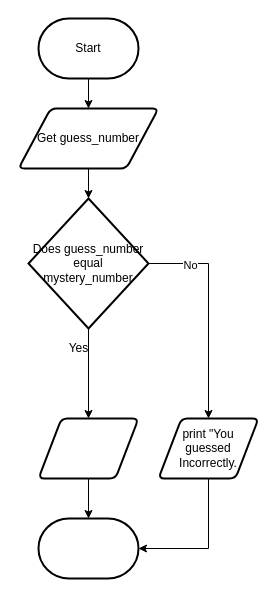
This 276x596 diagram has some shape labels left out. The shapes that lost their labels are listed below. From the top down, each one's box as (x1, y1, x2, y2) in pixels, then its label:
(37, 417, 139, 479): print "You guessed correct
(37, 517, 139, 579): Stop
